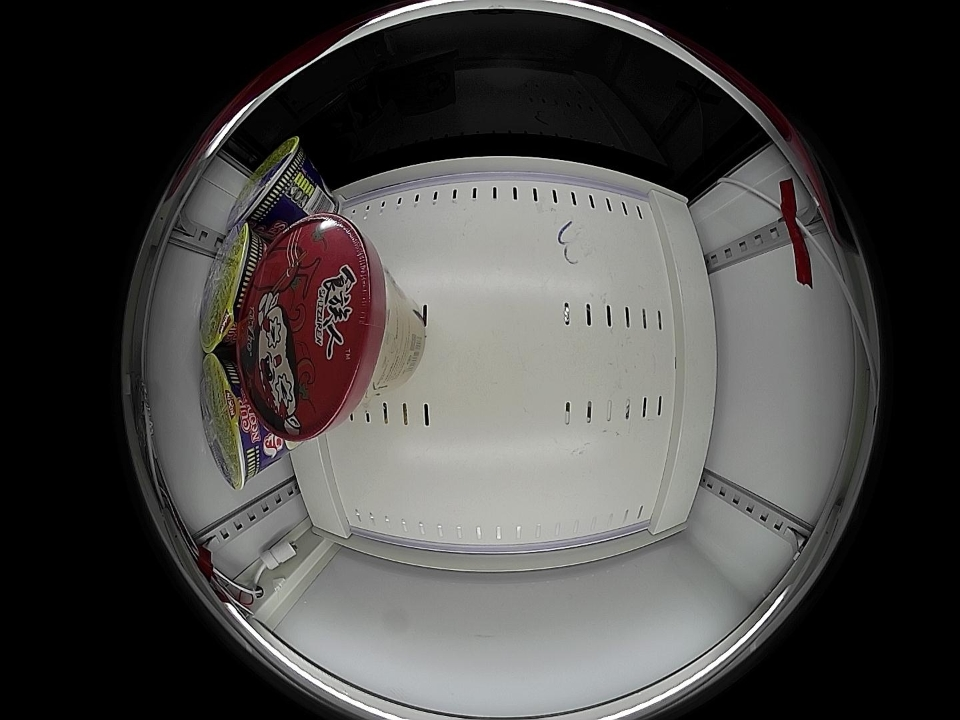heweidao: (200, 353, 264, 491), (199, 222, 265, 352), (227, 136, 313, 233)
suanlafen: (242, 216, 396, 443)
